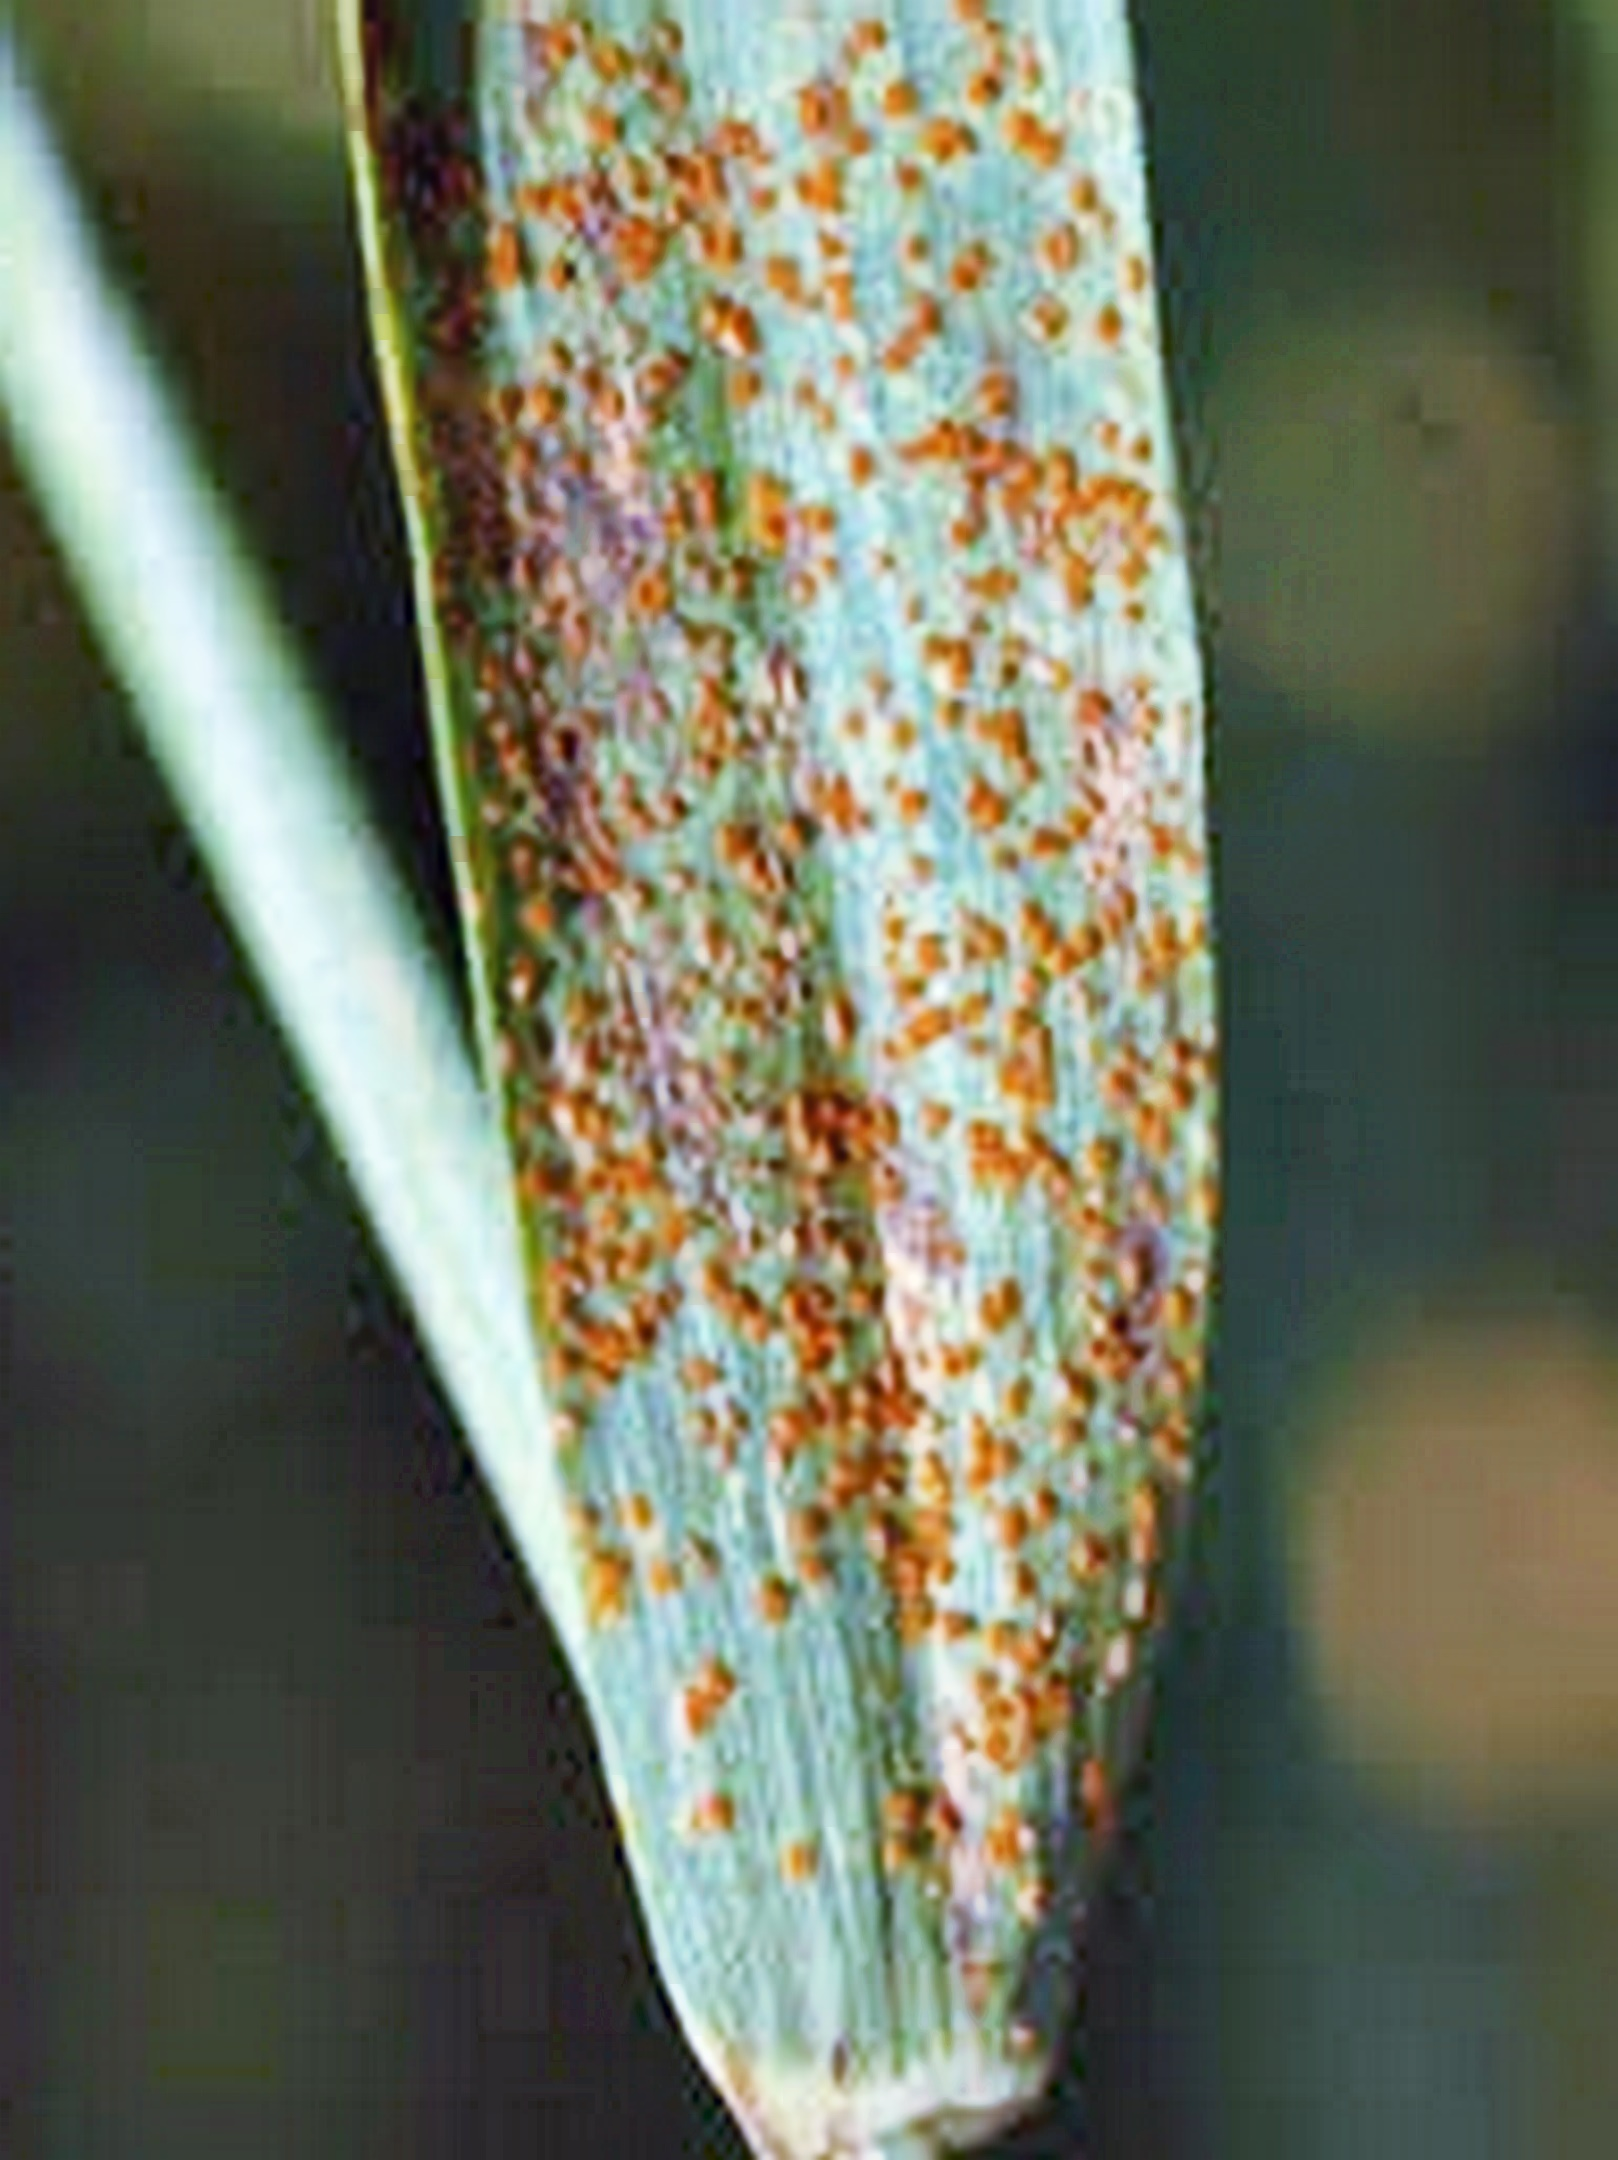Leaf Rust: (343, 53, 1222, 1902)
